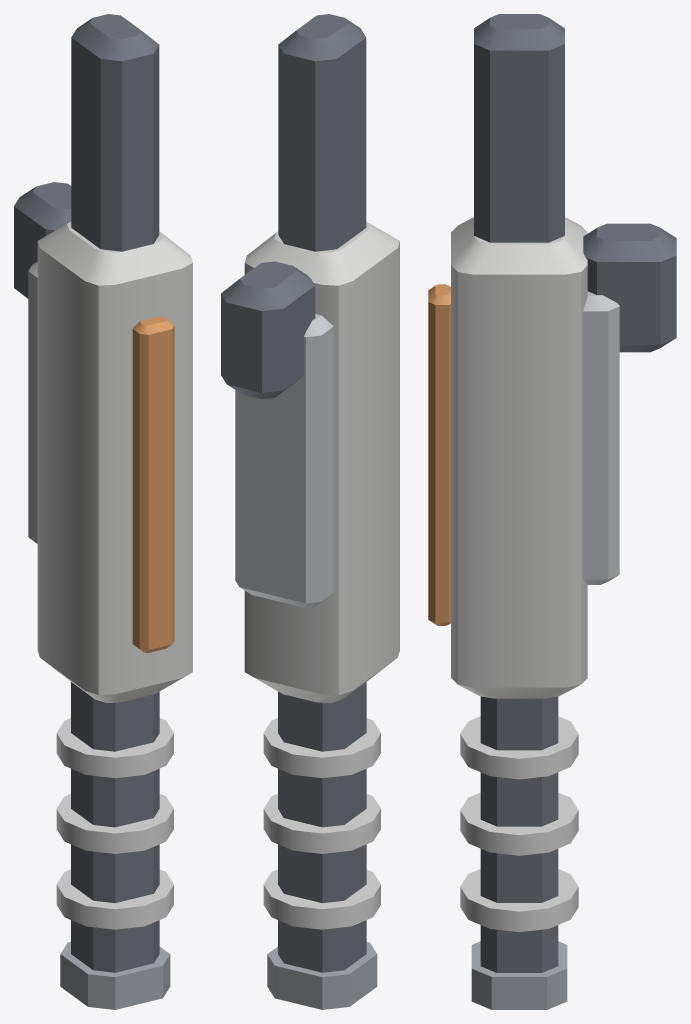
Rendered from gear_fusil_impulsion.glb.
The picture shows the model from 3 angles, left to right: view 1: azimuth 30°, elevation 25°; view 2: azimuth 150°, elevation 25°; view 3: azimuth 270°, elevation 25°; orthographic projection.
Visible parts, largest first — view 1: gun__fusil_impulsion, gun__fusil_impulsion_glow; view 2: gun__fusil_impulsion, gun__fusil_impulsion_glow; view 3: gun__fusil_impulsion, gun__fusil_impulsion_glow.
Part boxes in pixels (x1,y1,x2,y2): gun__fusil_impulsion: (14, 14, 192, 1009); gun__fusil_impulsion_glow: (56, 718, 173, 929); gun__fusil_impulsion: (221, 14, 399, 1009); gun__fusil_impulsion_glow: (263, 718, 380, 929); gun__fusil_impulsion: (428, 14, 676, 1009); gun__fusil_impulsion_glow: (460, 716, 578, 932).
Size of the model in its own units: 0.054 by 0.472 by 0.109.
